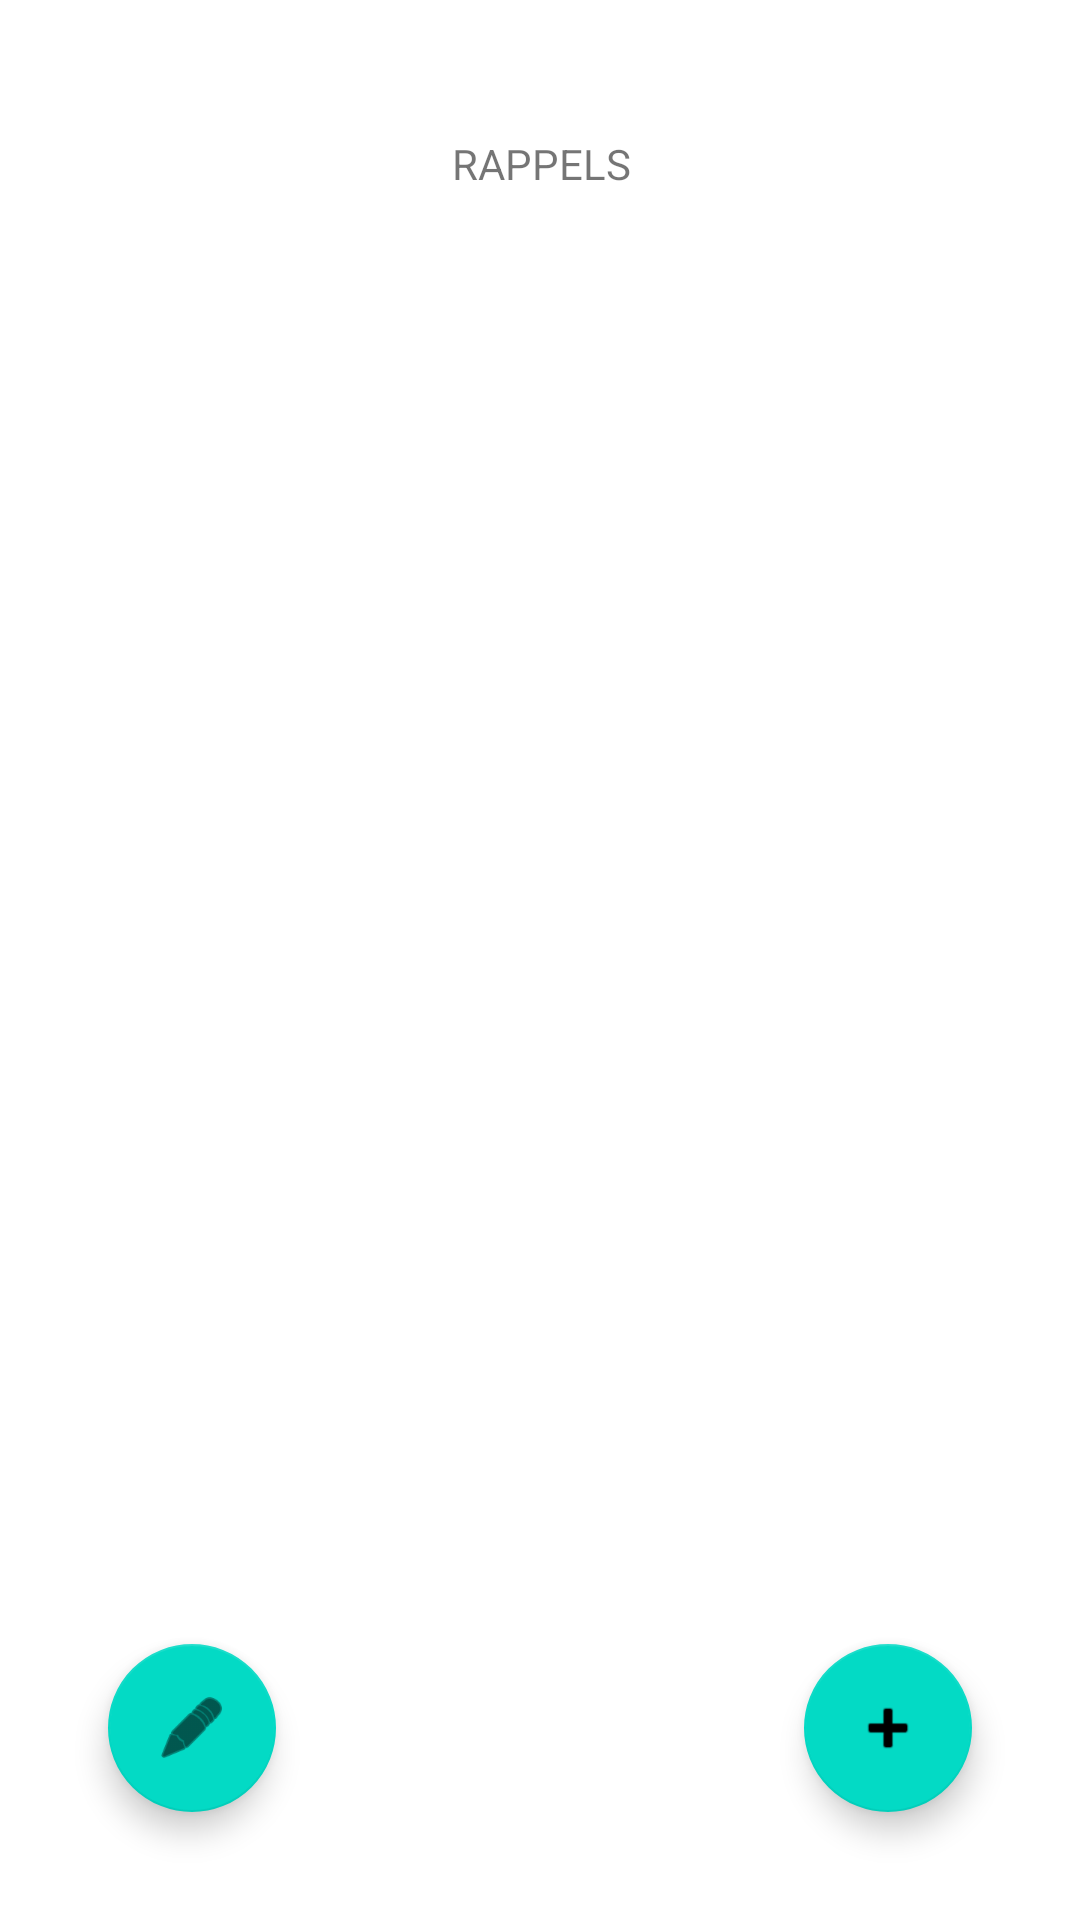

Icons on this 1080 x 1920 Android screen, each with the point to tap as [x,y]:
add: [888,1728]
edit: [192,1728]
